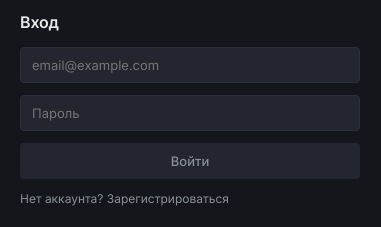
Test: LoginForm › переключается в режим регистрации
This screenshot has width=381, height=227.
Click the button "Нет аккаунта? Зарегистрироваться".
click(190, 198)  # box [20,191,360,206]
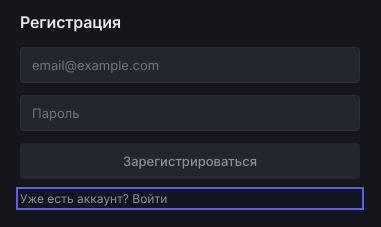
Expected: the button "Зарегистрироваться" is shown, [20,143,360,179]
